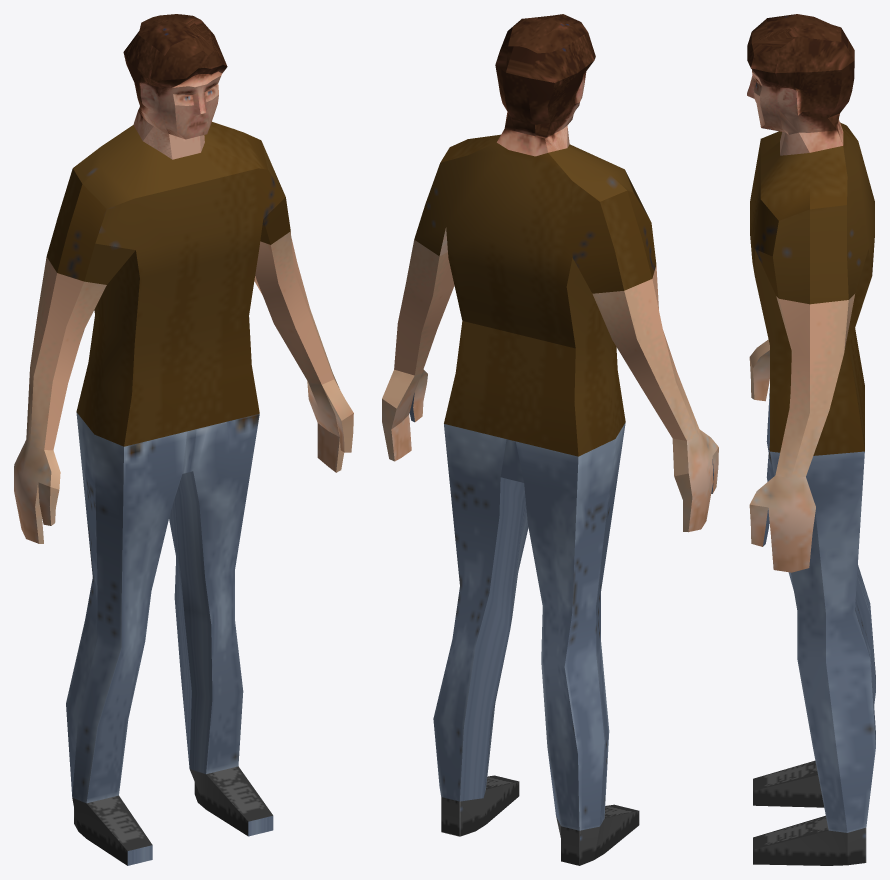
The model's file is NPC1.fbx.
3 views of the same model, side by side, from view 1: azimuth 30°, elevation 25°; view 2: azimuth 150°, elevation 25°; view 3: azimuth 270°, elevation 25° (orthographic).
Parts seen in each view (by area): view 1: Cube; view 2: Cube; view 3: Cube.
Boxes of the visible parts, x1,y1,x2,y2 form: Cube: (14, 14, 353, 865); Cube: (382, 14, 718, 865); Cube: (747, 14, 875, 865).
Size of the model in its own units: 177 by 428 by 61.68.
